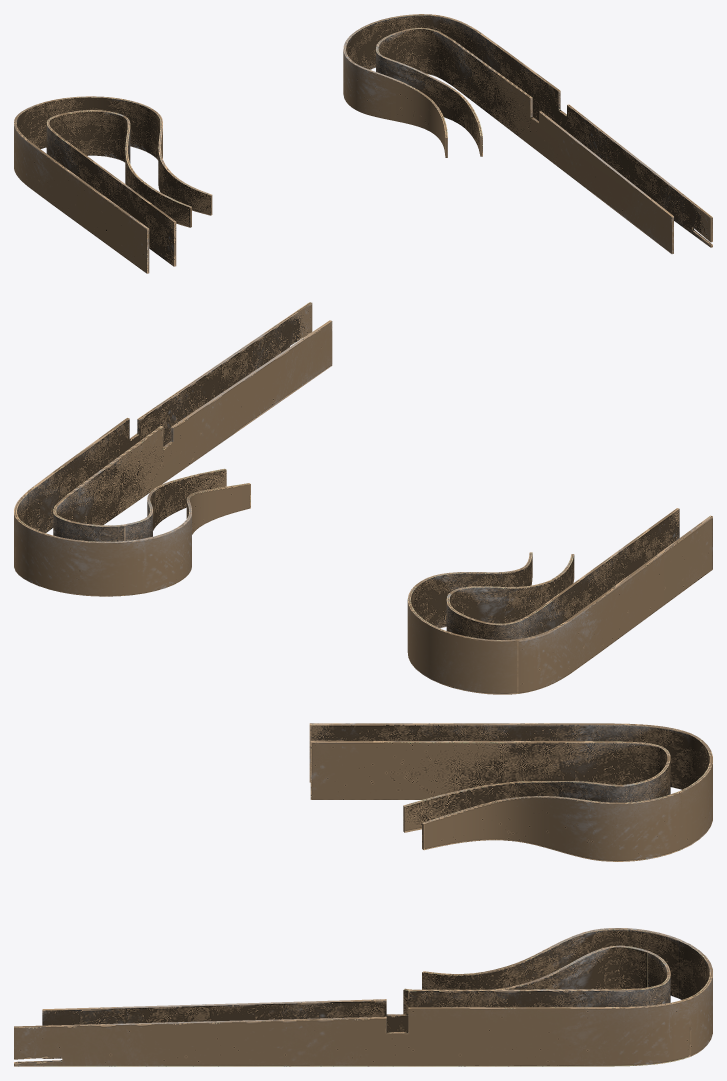
Rendered from newpinball_rail.fbx.
3 views of the same model, one above another, from view 1: azimuth 30°, elevation 25°; view 2: azimuth 150°, elevation 25°; view 3: azimuth 270°, elevation 25° (orthographic). The views are drawn at different scales.
Parts seen in each view (by area): view 1: rail_3d.001; view 2: rail_3d.001; view 3: rail_3d.001.
Part boxes in pixels (bbox=[...]): rail_3d.001: bbox=[14, 14, 712, 273]; rail_3d.001: bbox=[14, 302, 712, 694]; rail_3d.001: bbox=[14, 723, 712, 1066].
Size of the model in its own units: 205 by 22.76 by 212.
